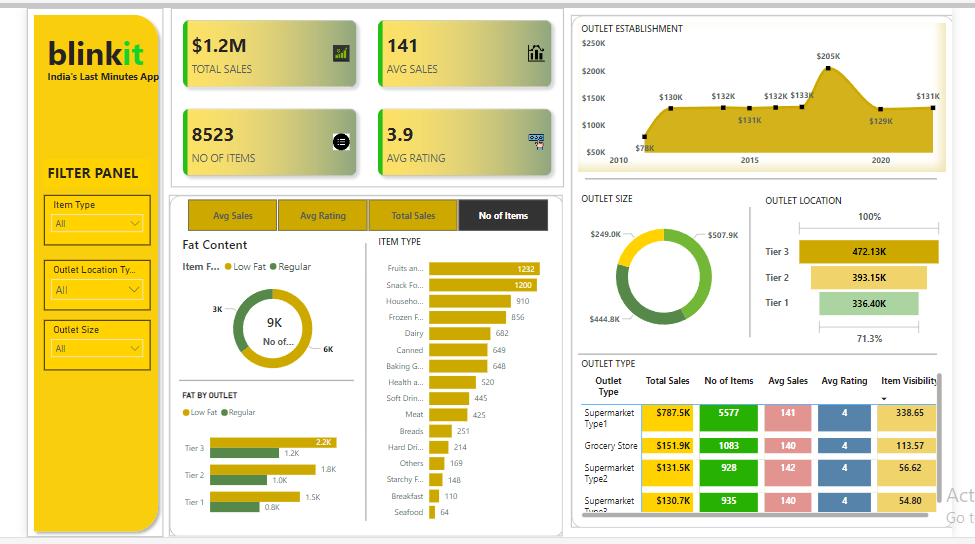

This screenshot's page, from the dashboard's own definition file:
{"tool":"powerbi","page":{"name":"Page 1","canvas":[1400,800],"ordinal":0},"visuals":[{"type":"shape","box":[0,0,206.3,800],"z":0},{"type":"textbox","box":[25.7,29.4,172.7,75.3],"z":1000},{"type":"textbox","box":[25.7,88.2,189.2,34.9],"z":2000},{"type":"cardVisual","fields":{"Data":["BlinkIT Grocery Data.Total Sales","BlinkIT Grocery Data.Avg Sales","BlinkIT Grocery Data.No of Items","BlinkIT Grocery Data.Avg Rating"]},"box":[217.3,0,593.7,270.9],"z":3000},{"type":"shape","box":[215,282.9,595.3,516.3],"z":4000},{"type":"donutChart","title":"Fat Content","fields":{"Y":["BlinkIT Grocery Data.No of Items"],"Category":["BlinkIT Grocery Data.Item Fat Content"]},"box":[229.9,344.9,283.5,223.6],"z":5000},{"type":"cardVisual","fields":{"Data":["BlinkIT Grocery Data.No of Items"]},"box":[327.6,442.5,92.9,74],"z":6000},{"type":"clusteredBarChart","title":"FAT BY OUTLET","fields":{"Y":["BlinkIT Grocery Data.No of Items"],"Category":["BlinkIT Grocery Data.Outlet Location Type"],"Series":["BlinkIT Grocery Data.Item Fat Content"]},"box":[229.9,579.5,269.3,206.3],"z":7000},{"type":"slicer","fields":{"Values":["Matrix.Matrix"]},"box":[217.3,283.5,593.7,61.4],"z":7001},{"type":"shape","box":[229.9,548,264.6,31.5],"z":7002},{"type":"shape","box":[499.2,355.9,26.8,420.5],"z":7003},{"type":"barChart","title":" ITEM TYPE","fields":{"Category":["BlinkIT Grocery Data.Item Type"],"Y":["BlinkIT Grocery Data.No of Items"]},"box":[526,344.9,277.2,442.5],"z":7004},{"type":"shape","box":[822,11,578,774.8],"z":7005},{"type":"areaChart","title":" OUTLET ESTABLISHMENT","fields":{"Category":["BlinkIT Grocery Data.Outlet Establishment Year"],"Y":["BlinkIT Grocery Data.Total Sales"]},"box":[833.1,22,555.9,225.2],"z":7006},{"type":"donutChart","title":"OUTLET SIZE","fields":{"Y":["BlinkIT Grocery Data.Total Sales"],"Category":["BlinkIT Grocery Data.Outlet Size"]},"box":[833.1,280.3,259.8,236.2],"z":7007},{"type":"funnel","title":"OUTLET LOCATION ","fields":{"Category":["BlinkIT Grocery Data.Outlet Location Type"],"Y":["Sum(BlinkIT Grocery Data.Sales)"]},"box":[1111.8,283.5,277.2,233.1],"z":7008},{"type":"shape","box":[833.1,516.5,543.3,12.6],"z":7009},{"type":"shape","box":[943.3,300.8,299.2,196.9],"z":7010},{"type":"pivotTable","title":"OUTLET TYPE","fields":{"Rows":["BlinkIT Grocery Data.Outlet Type"],"Values":["BlinkIT Grocery Data.Total Sales","BlinkIT Grocery Data.No of Items","BlinkIT Grocery Data.Avg Sales","BlinkIT Grocery Data.Avg Rating","Sum(BlinkIT Grocery Data.Item Visibility)"]},"box":[833.1,529.1,555.9,247.2],"z":7011},{"type":"slicer","fields":{"Values":["BlinkIT Grocery Data.Item Type"]},"box":[25.2,283.5,160.6,75.6],"z":7012},{"type":"slicer","fields":{"Values":["BlinkIT Grocery Data.Outlet Location Type"]},"box":[25.2,381.1,160.6,75.6],"z":7013},{"type":"slicer","fields":{"Values":["BlinkIT Grocery Data.Outlet Size"]},"box":[25.2,472.4,160.6,75.6],"z":7014},{"type":"textbox","box":[25.2,228.3,160.6,42.5],"z":7015},{"type":"shape","box":[844.1,247.2,532.3,23.6],"z":7016}]}

Visuals, with their boxes in screenshot pixels (x1, y1, x2, y2), scaled from the page's 1400x800 canvas onto the 975x544 screenshot:
shape: [0, 0, 144, 543]
textbox: [18, 20, 138, 71]
textbox: [18, 60, 150, 84]
cardVisual - BlinkIT Grocery Data.Total Sales x BlinkIT Grocery Data.Avg Sales: [151, 0, 565, 184]
shape: [150, 192, 564, 543]
"Fat Content" donutChart: [160, 235, 358, 387]
cardVisual - BlinkIT Grocery Data.No of Items: [228, 301, 293, 351]
"FAT BY OUTLET" clusteredBarChart: [160, 394, 348, 534]
slicer - Matrix.Matrix: [151, 193, 565, 235]
shape: [160, 373, 344, 394]
shape: [348, 242, 366, 528]
" ITEM TYPE" barChart: [366, 235, 559, 535]
shape: [572, 7, 974, 534]
" OUTLET ESTABLISHMENT" areaChart: [580, 15, 967, 168]
"OUTLET SIZE" donutChart: [580, 191, 761, 351]
"OUTLET LOCATION " funnel: [774, 193, 967, 351]
shape: [580, 351, 959, 360]
shape: [657, 205, 865, 338]
"OUTLET TYPE" pivotTable: [580, 360, 967, 528]
slicer - BlinkIT Grocery Data.Item Type: [18, 193, 129, 244]
slicer - BlinkIT Grocery Data.Outlet Location Type: [18, 259, 129, 311]
slicer - BlinkIT Grocery Data.Outlet Size: [18, 321, 129, 373]
textbox: [18, 155, 129, 184]
shape: [588, 168, 959, 184]
